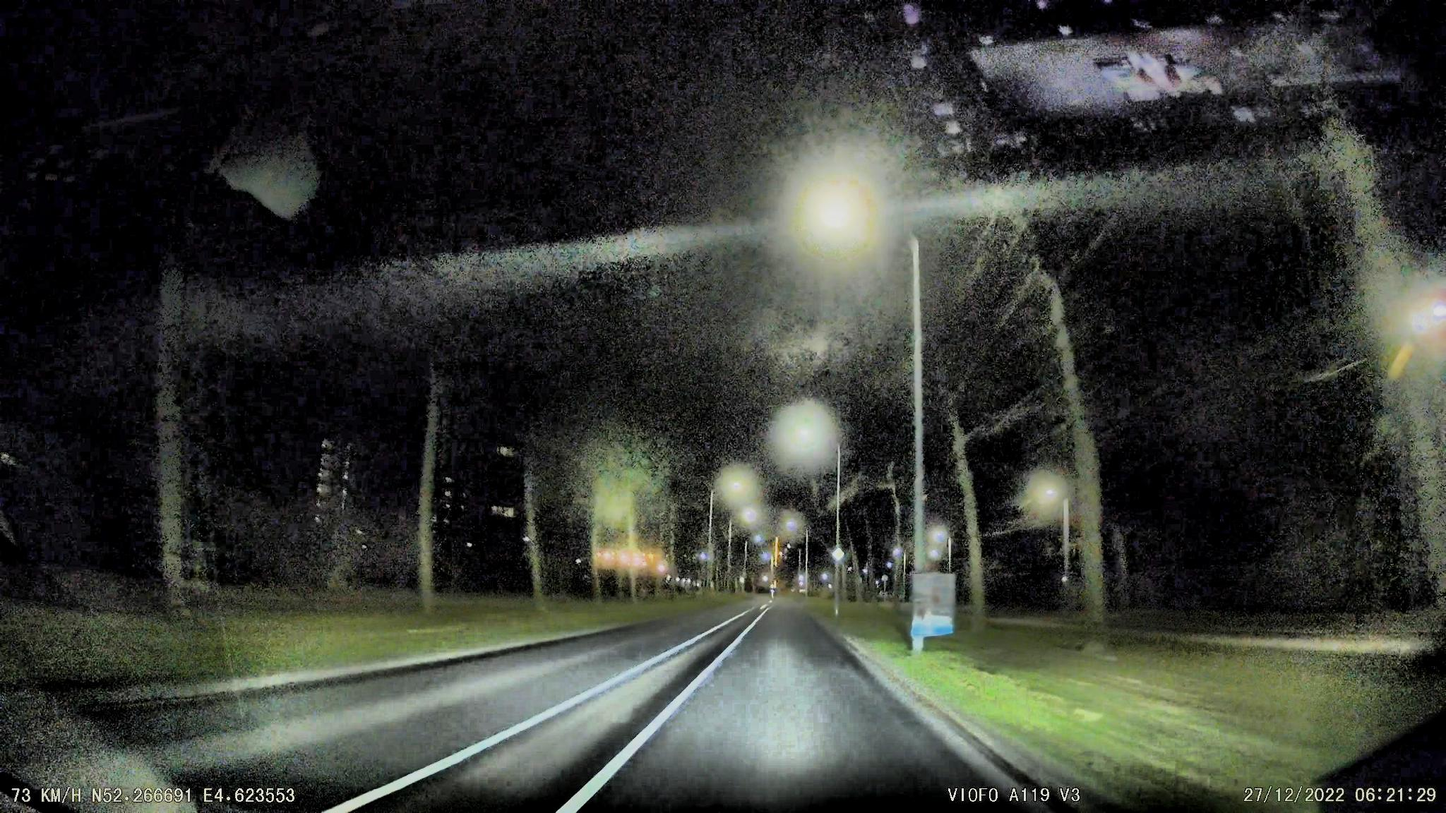Roads: (38, 601, 1055, 813)
